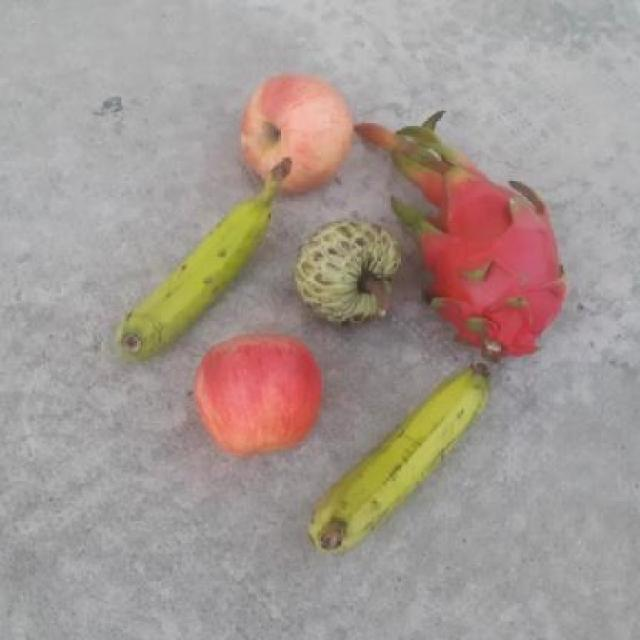apple: (189, 329, 326, 460), (240, 70, 358, 198)
banana: (112, 160, 300, 362), (308, 362, 495, 550)
dragon fruit: (409, 161, 574, 364)
sugar apple: (291, 216, 403, 330)
